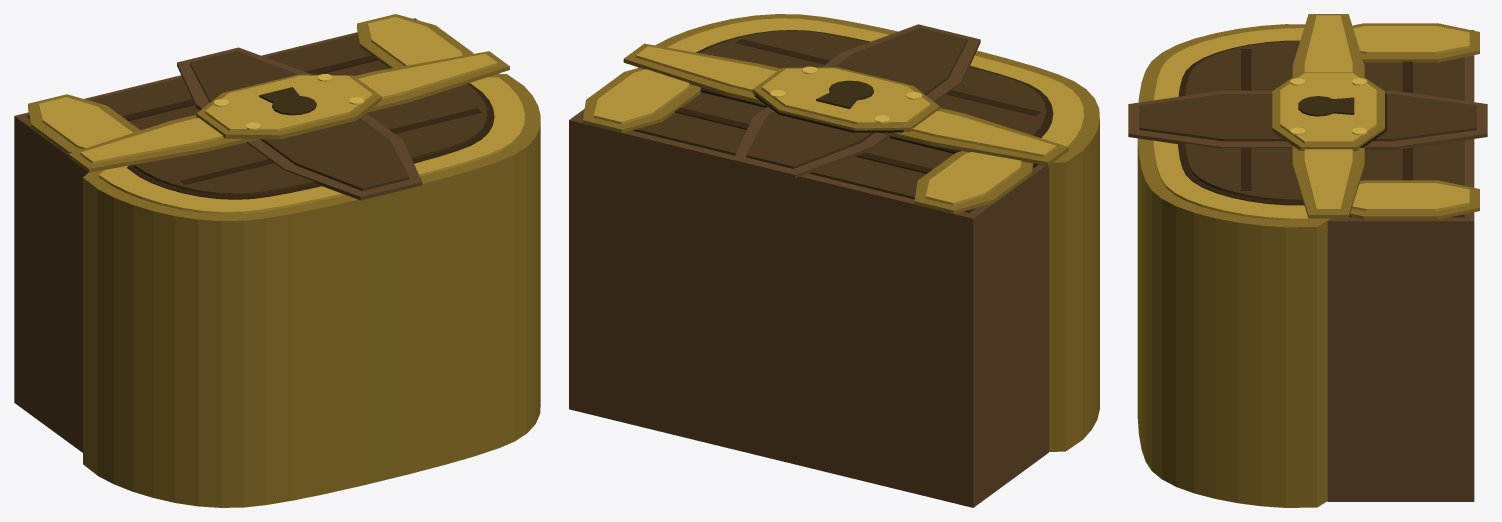
The model's file is bag_bau.fbx.
3 renders of one model, left to right at view 1: azimuth 30°, elevation 25°; view 2: azimuth 150°, elevation 25°; view 3: azimuth 270°, elevation 25°, orthographic. The views are drawn at different scales.
Visible parts, largest first — view 1: bag_bau_mochila; view 2: bag_bau_mochila; view 3: bag_bau_mochila.
Boxes of the visible parts, bbox=[...] form: bag_bau_mochila: bbox=[14, 14, 540, 507]; bag_bau_mochila: bbox=[569, 14, 1099, 507]; bag_bau_mochila: bbox=[1128, 14, 1487, 507].
Size of the model in its own units: 2.79 by 1.93 by 2.09.
1 material, 1 textured.
